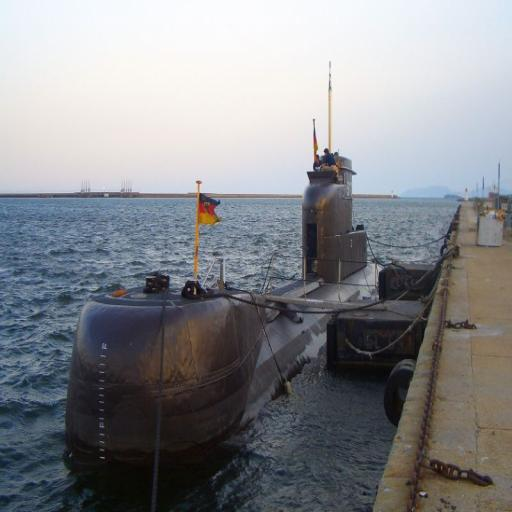submarine: (64, 60, 382, 483)
